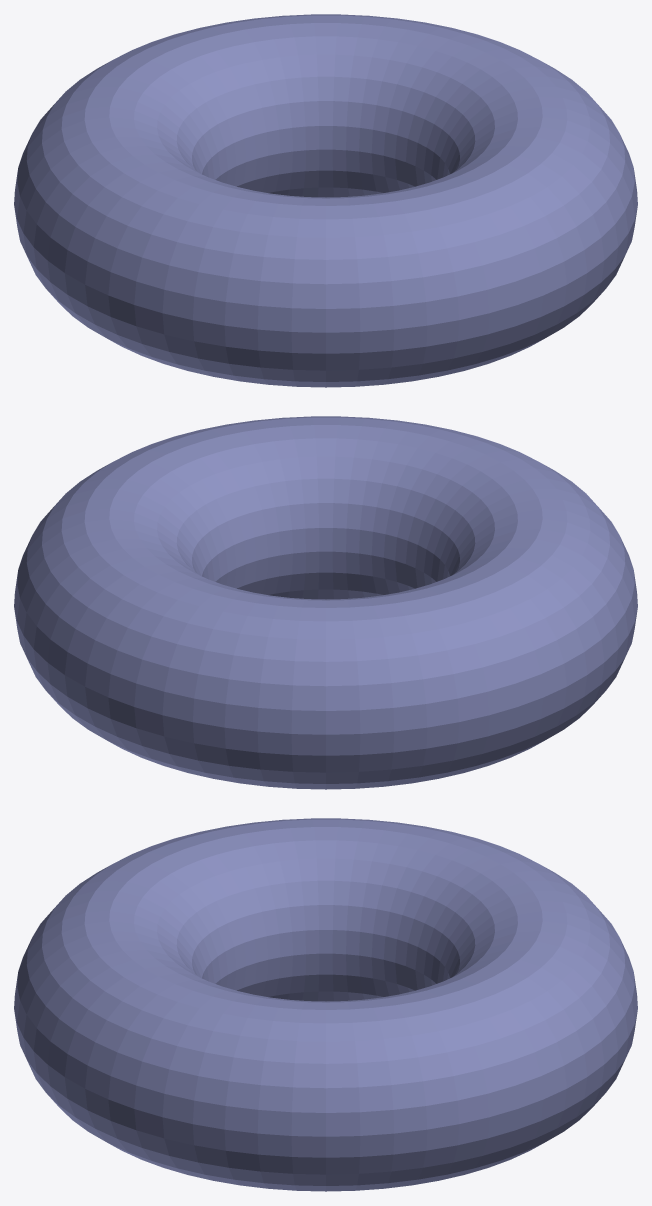
The picture shows the model from 3 angles, top to bottom: view 1: azimuth 30°, elevation 25°; view 2: azimuth 150°, elevation 25°; view 3: azimuth 270°, elevation 25°; orthographic projection.
Parts seen in each view (by area): view 1: Torus.003; view 2: Torus.003; view 3: Torus.003.
Boxes of the visible parts, left/top/right/bottom form: Torus.003: left=14, top=14, right=637, bottom=387; Torus.003: left=14, top=416, right=637, bottom=789; Torus.003: left=14, top=818, right=637, bottom=1191.
Bounding box in the file's own units: 4.8 × 1.47 × 4.8.
